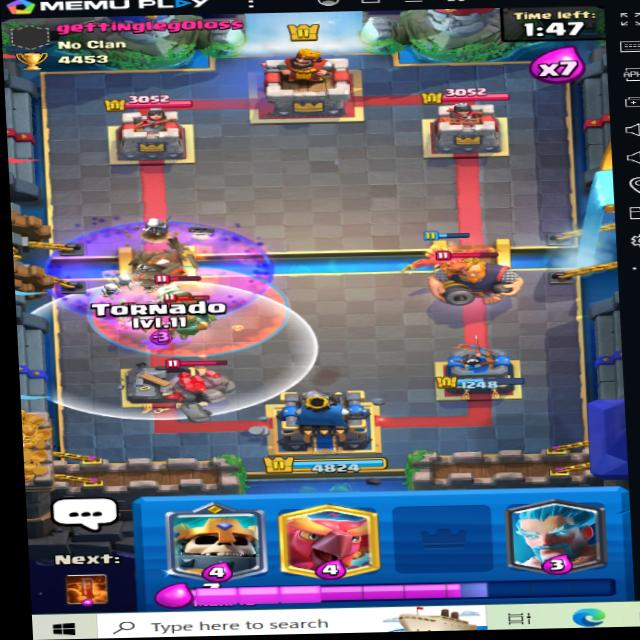golem: (154, 359, 258, 421)
royal-giant: (419, 250, 525, 307)
royal-recruits: (165, 298, 218, 345)
sparky: (138, 272, 212, 334)
